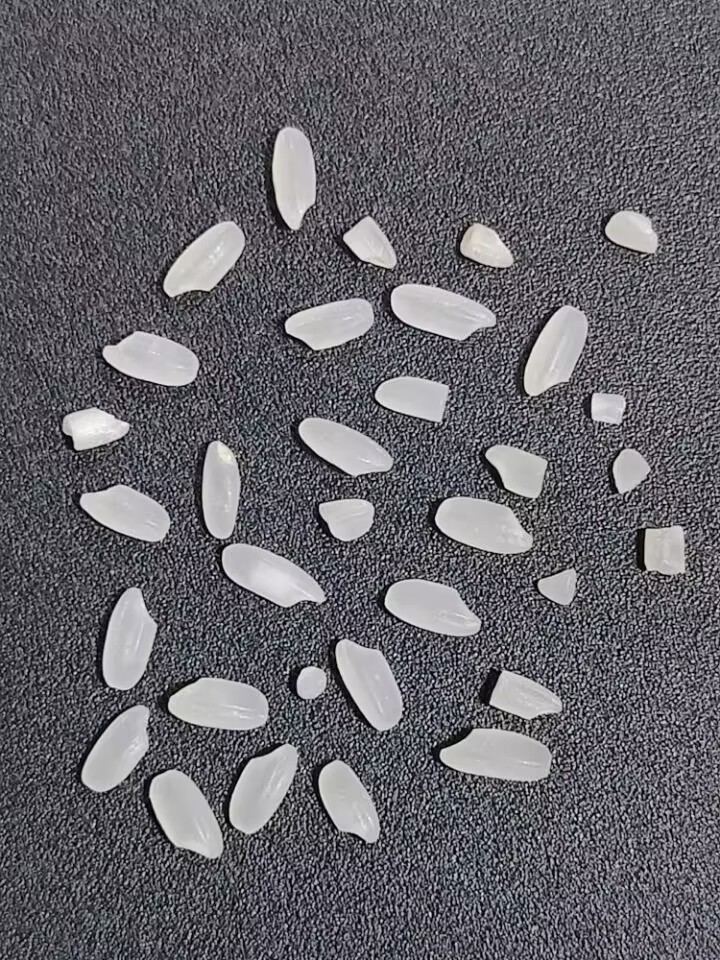broken: (486, 662, 572, 726), (58, 402, 137, 455), (337, 213, 404, 275), (316, 490, 383, 548), (374, 375, 449, 423), (484, 444, 549, 499), (455, 217, 519, 269), (531, 564, 583, 612), (605, 210, 659, 254), (643, 525, 687, 576), (612, 447, 652, 493), (294, 662, 335, 706), (590, 392, 627, 424)
rice: (145, 767, 232, 868), (218, 541, 331, 616), (73, 699, 157, 799), (331, 635, 413, 736), (221, 739, 303, 835), (428, 489, 536, 557), (94, 584, 163, 688), (164, 673, 276, 737), (292, 416, 399, 482), (435, 722, 552, 782), (380, 575, 486, 640), (162, 219, 247, 299), (312, 759, 386, 848), (77, 478, 173, 545), (266, 125, 325, 232), (99, 329, 204, 388), (390, 283, 496, 341), (523, 304, 589, 396), (276, 295, 377, 351), (200, 435, 246, 541)
